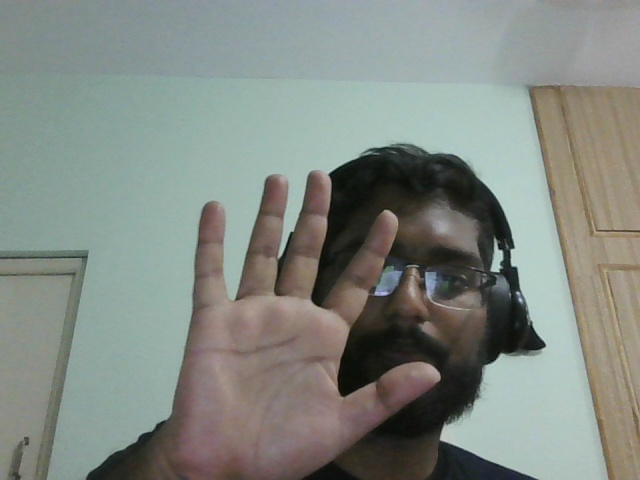Hello: (172, 159, 442, 480)
